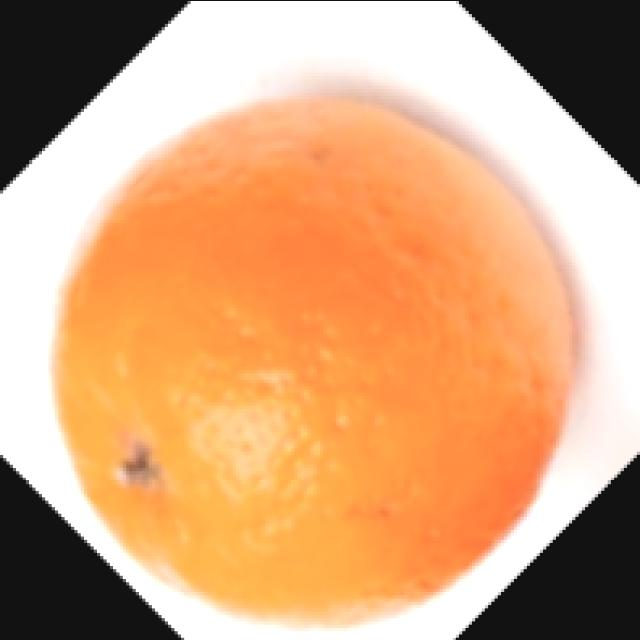orange: (0, 56, 615, 640)
